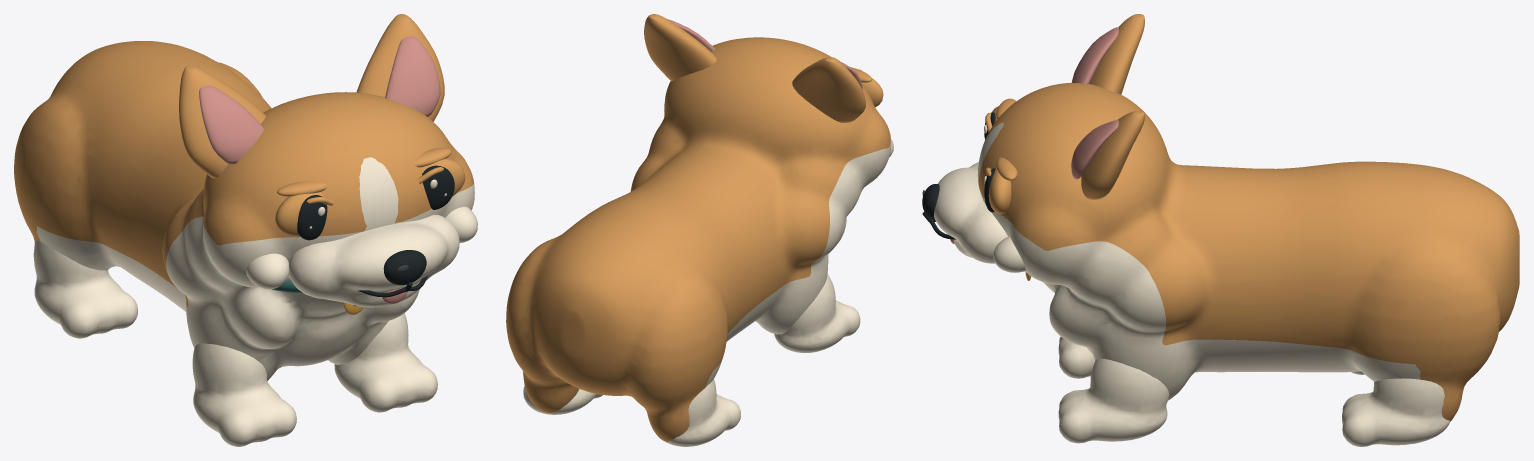
Rendered from corgi.glb.
The picture shows the model from 3 angles, left to right: view 1: azimuth 30°, elevation 25°; view 2: azimuth 150°, elevation 25°; view 3: azimuth 270°, elevation 25°; orthographic projection. The views are drawn at different scales.
Parts seen in each view (by area): view 1: CorgiRoot__ACST_CorgiHoneyCoat, CorgiRoot__ACST_CorgiCloudCoat, CorgiRoot__ACST_SoftPink, CorgiRoot__ACST_DarkEyes; view 2: CorgiRoot__ACST_CorgiHoneyCoat, CorgiRoot__ACST_CorgiCloudCoat, CorgiRoot__ACST_SoftPink; view 3: CorgiRoot__ACST_CorgiHoneyCoat, CorgiRoot__ACST_CorgiCloudCoat, CorgiRoot__ACST_SoftPink, CorgiRoot__ACST_DarkEyes.
Part boxes in pixels (bbox=[...]): CorgiRoot__ACST_CorgiHoneyCoat: bbox=[14, 14, 474, 307]; CorgiRoot__ACST_CorgiCloudCoat: bbox=[33, 157, 477, 446]; CorgiRoot__ACST_SoftPink: bbox=[199, 36, 440, 303]; CorgiRoot__ACST_DarkEyes: bbox=[297, 165, 454, 297]; CorgiRoot__ACST_CorgiHoneyCoat: bbox=[506, 14, 890, 441]; CorgiRoot__ACST_CorgiCloudCoat: bbox=[523, 104, 893, 446]; CorgiRoot__ACST_SoftPink: bbox=[668, 19, 862, 89]; CorgiRoot__ACST_CorgiHoneyCoat: bbox=[978, 14, 1519, 421]; CorgiRoot__ACST_CorgiCloudCoat: bbox=[934, 122, 1449, 446]; CorgiRoot__ACST_SoftPink: bbox=[950, 27, 1118, 243]; CorgiRoot__ACST_DarkEyes: bbox=[922, 112, 995, 239].
Bounding box in the file's own units: 0.3 × 0.4 × 0.6377.
